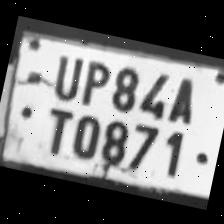0: (64, 106, 106, 162)
1: (153, 120, 194, 178)
4: (134, 64, 174, 119)
7: (122, 114, 162, 174)
8: (94, 110, 132, 172), (104, 57, 144, 113)
A: (162, 68, 204, 127)
P: (74, 52, 115, 108)
T: (33, 97, 77, 156)
U: (45, 44, 87, 100)
